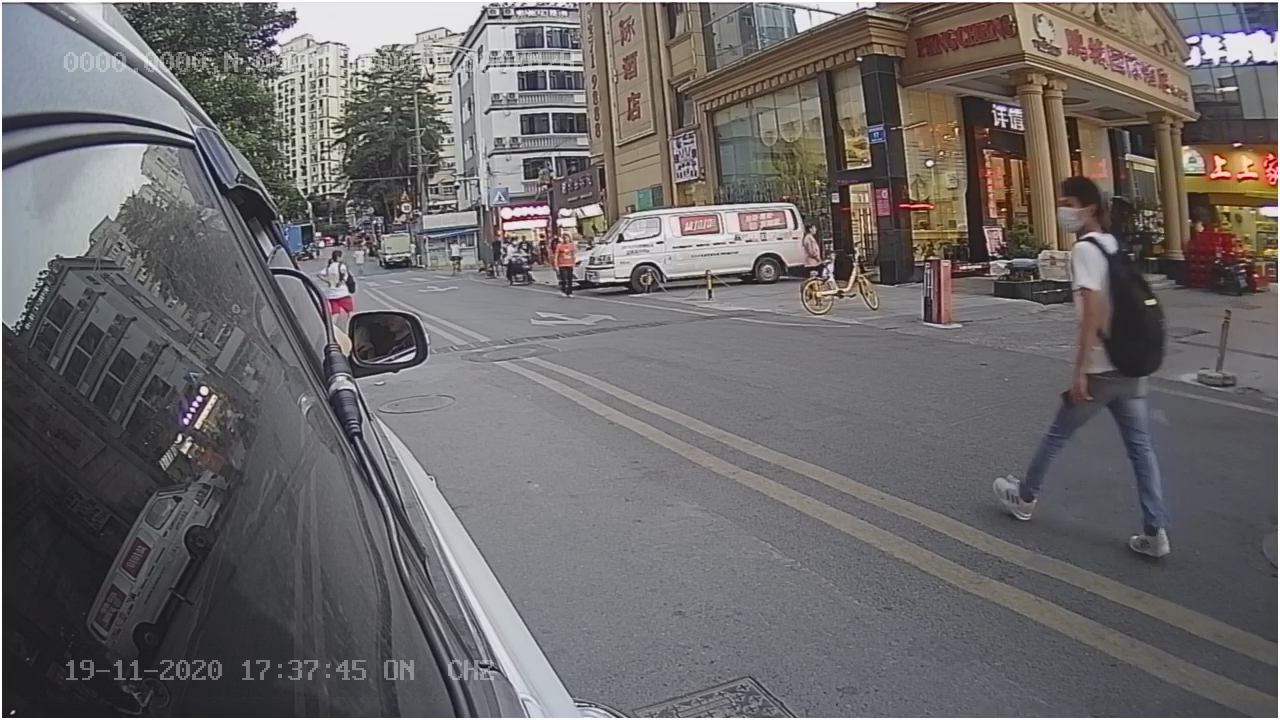person: (1018, 168, 1169, 529)
